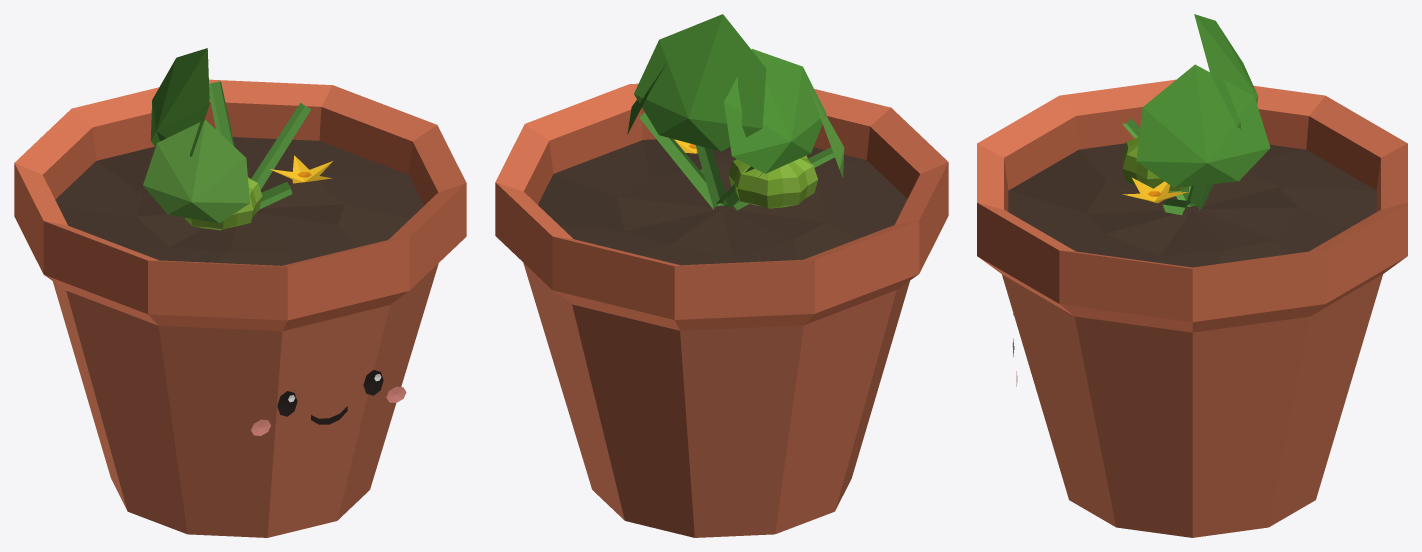
The model's file is pumpkin_3.glb.
3 renders of one model, left to right at view 1: azimuth 30°, elevation 25°; view 2: azimuth 150°, elevation 25°; view 3: azimuth 270°, elevation 25°, orthographic.
Parts seen in each view (by area): view 1: Pumpkin_Stage3_Flower; view 2: Pumpkin_Stage3_Flower; view 3: Pumpkin_Stage3_Flower.
Part boxes in pixels (left/top/right/bottom): Pumpkin_Stage3_Flower: left=14, top=48, right=466, bottom=537; Pumpkin_Stage3_Flower: left=495, top=14, right=948, bottom=537; Pumpkin_Stage3_Flower: left=977, top=14, right=1407, bottom=537.
Size of the model in its own units: 1.92 by 2.19 by 1.83.
